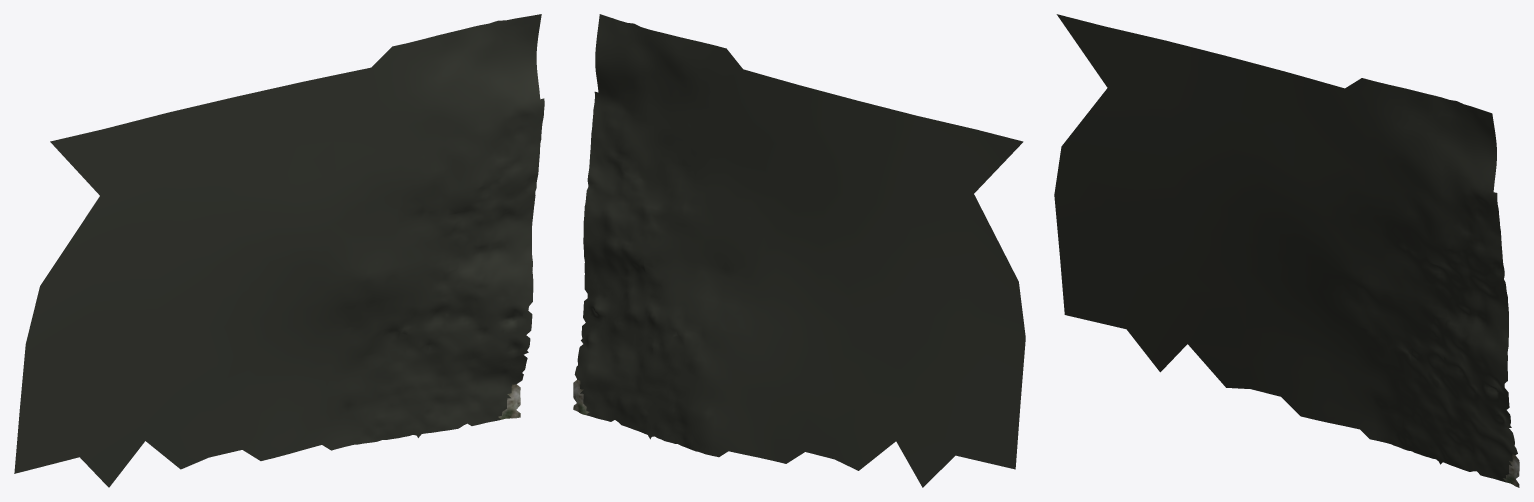
The model's file is tile_0.obj.
3 renders of one model, left to right at view 1: azimuth 30°, elevation 25°; view 2: azimuth 150°, elevation 25°; view 3: azimuth 330°, elevation 25°, orthographic. The views are drawn at different scales.
Size of the model in its own units: 1.95 by 1.6 by 0.265.
Materials: 1 (1 with a texture image).
